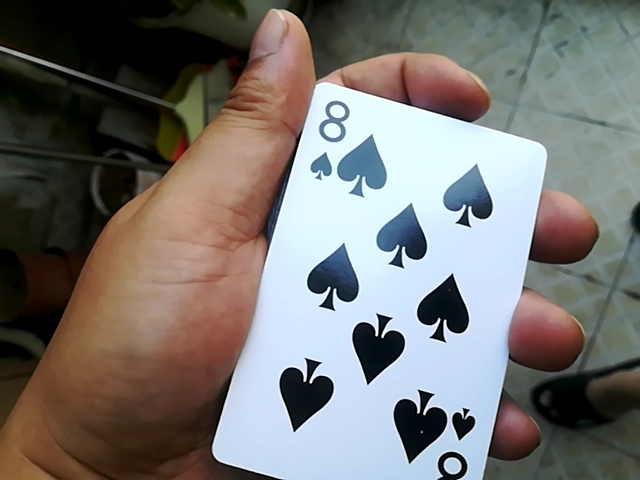ht 8: (217, 84, 544, 478)
